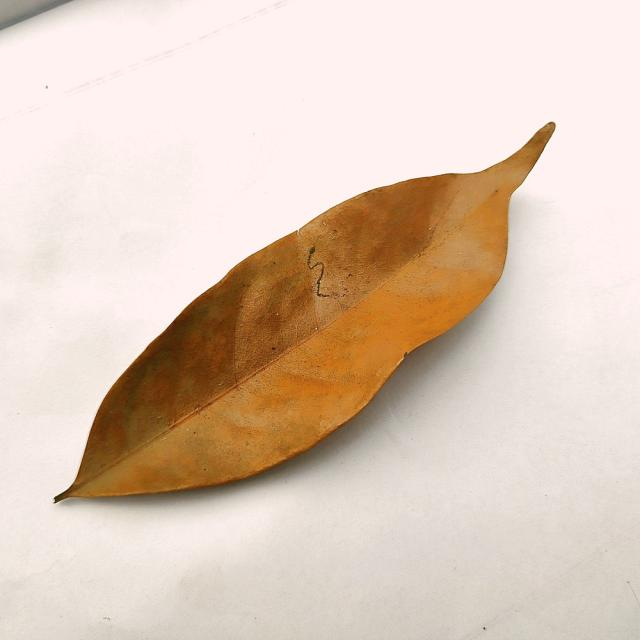Dry_Leaf-Lychee: (56, 122, 556, 504)
